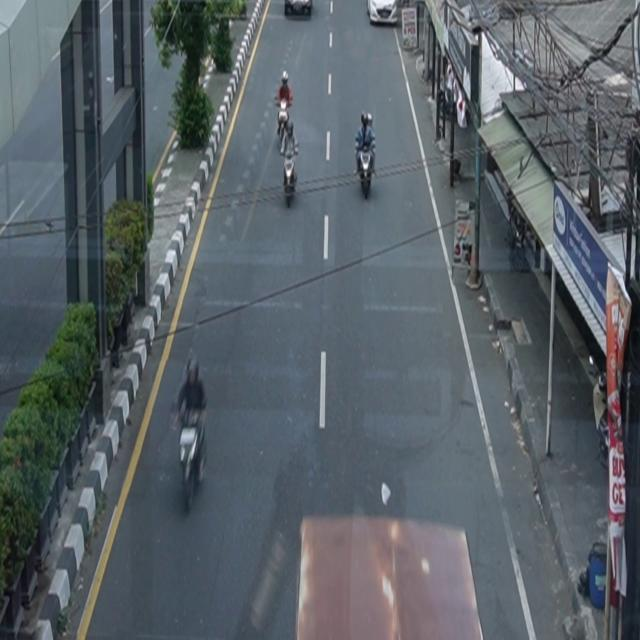car: (367, 1, 398, 26), (285, 1, 313, 17)
